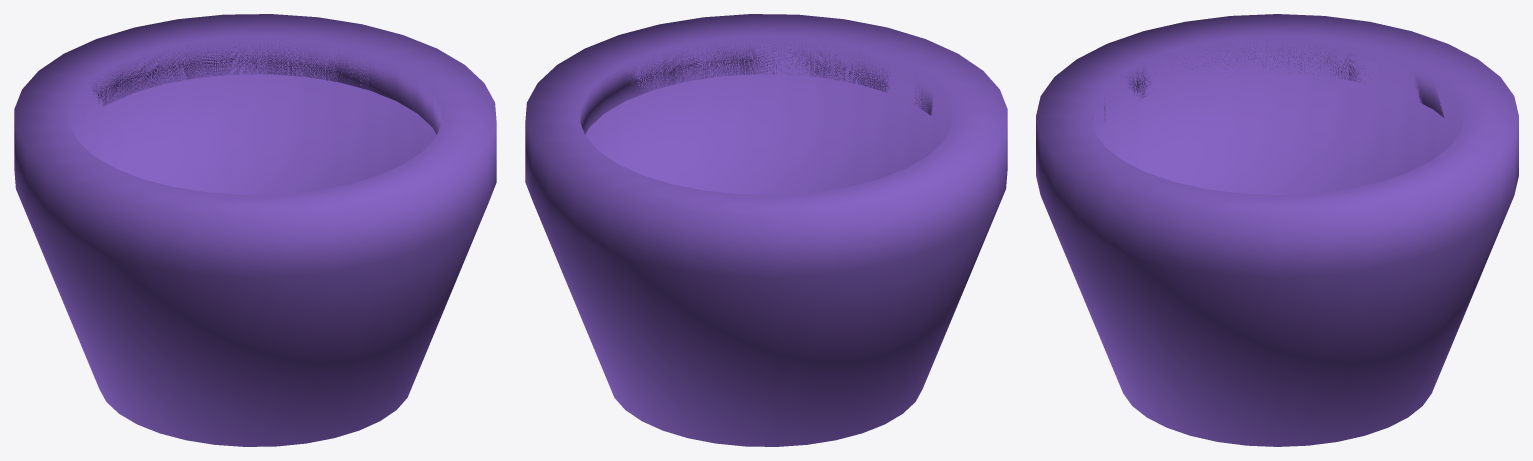
The picture shows the model from 3 angles, left to right: view 1: azimuth 30°, elevation 25°; view 2: azimuth 150°, elevation 25°; view 3: azimuth 270°, elevation 25°; orthographic projection.
Parts seen in each view (by area): view 1: Circle.010; view 2: Circle.010; view 3: Circle.010.
Part boxes in pixels (x1,y1,x2,y2): Circle.010: (14, 14, 496, 446); Circle.010: (525, 14, 1007, 446); Circle.010: (1036, 14, 1518, 446).
Bounding box in the file's own units: 25.69 × 15.52 × 25.69.
